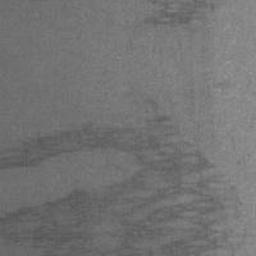Water spot: (0, 114, 243, 256), (141, 0, 225, 28)
